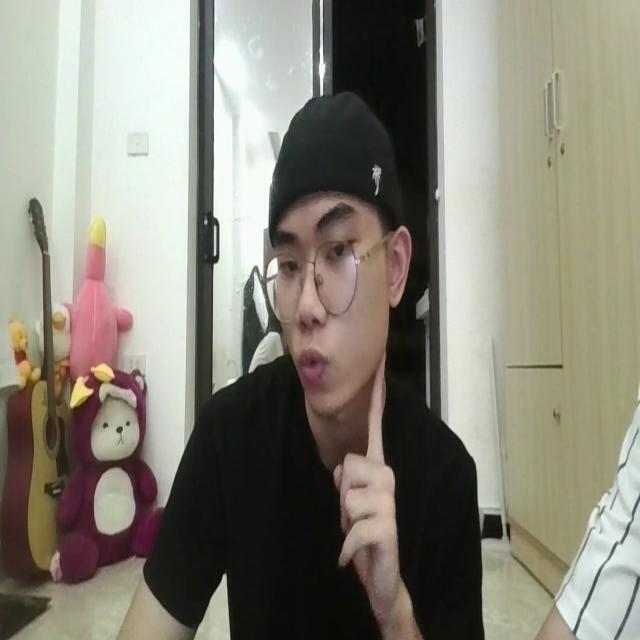student: (121, 81, 479, 640)
